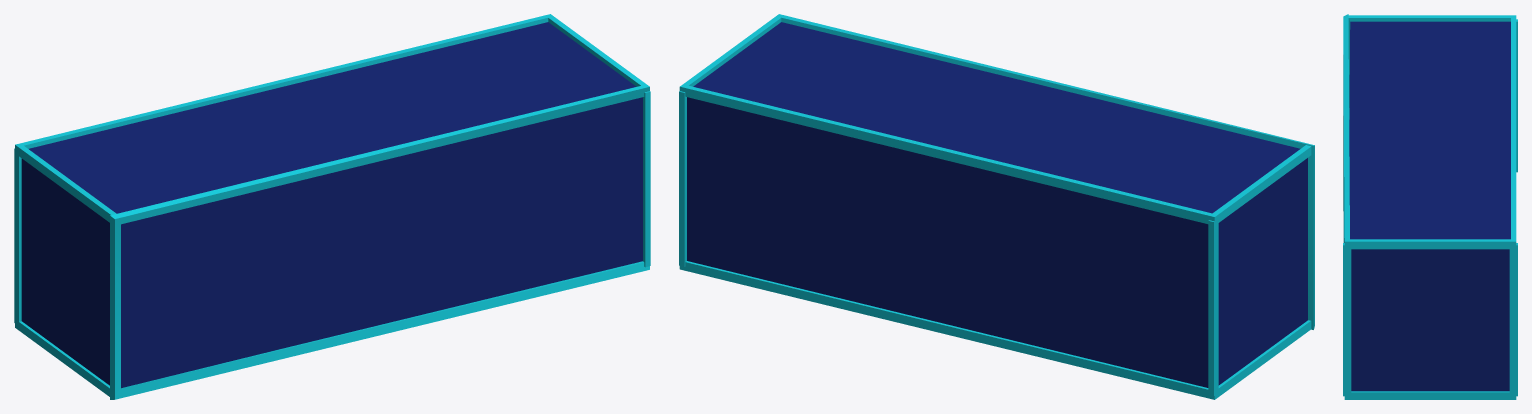
File: RetanguloSmples_Mapa01.FBX
The picture shows the model from 3 angles, left to right: view 1: azimuth 30°, elevation 25°; view 2: azimuth 150°, elevation 25°; view 3: azimuth 270°, elevation 25°; orthographic projection. The views are drawn at different scales.
Parts seen in each view (by area): view 1: Box011, Shape014; view 2: Box011, Shape014; view 3: Box011, Shape014.
Part boxes in pixels (box(x1,y1,x2,y2)): Box011: box(21, 22, 642, 388); Shape014: box(14, 14, 650, 399); Box011: box(687, 22, 1307, 387); Shape014: box(679, 14, 1314, 399); Box011: box(1349, 21, 1510, 391); Shape014: box(1343, 14, 1517, 399).
Bounding box in the file's own units: 194 × 63.5 × 63.
